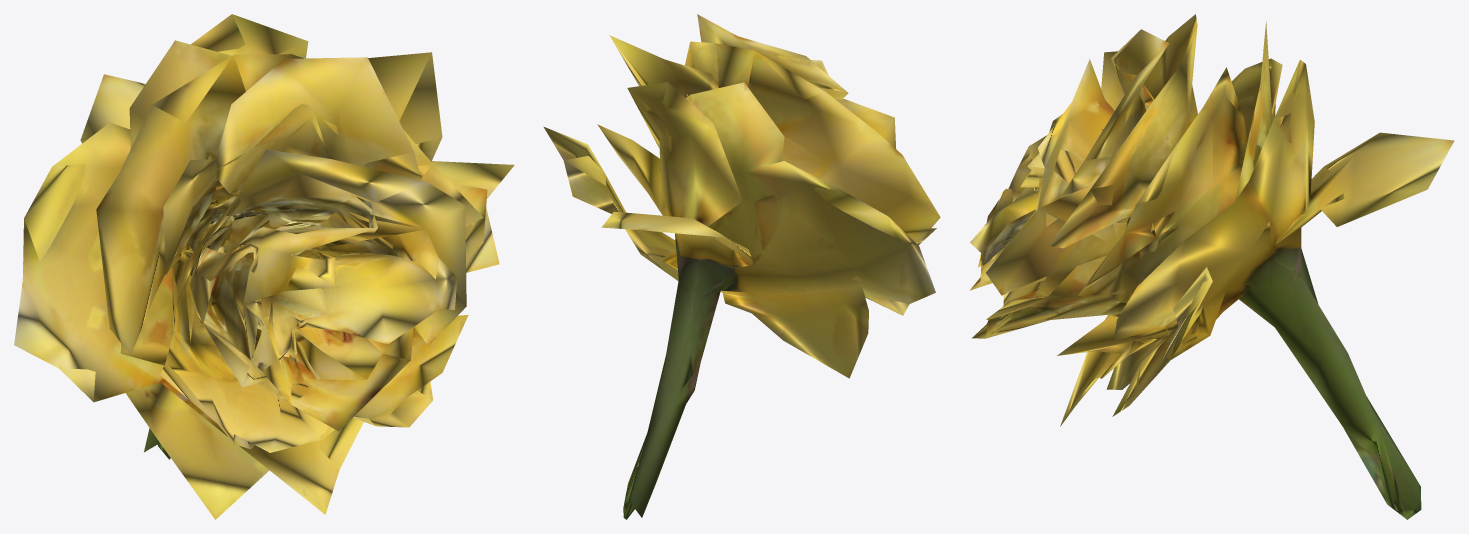
The model's file is rosa_amarilla.glb.
The picture shows the model from 3 angles, left to right: view 1: azimuth 30°, elevation 25°; view 2: azimuth 150°, elevation 25°; view 3: azimuth 270°, elevation 25°; orthographic projection. The views are drawn at different scales.
Size of the model in its own units: 1.94 by 1.89 by 1.75.
Materials: 1 (1 with a texture image).
